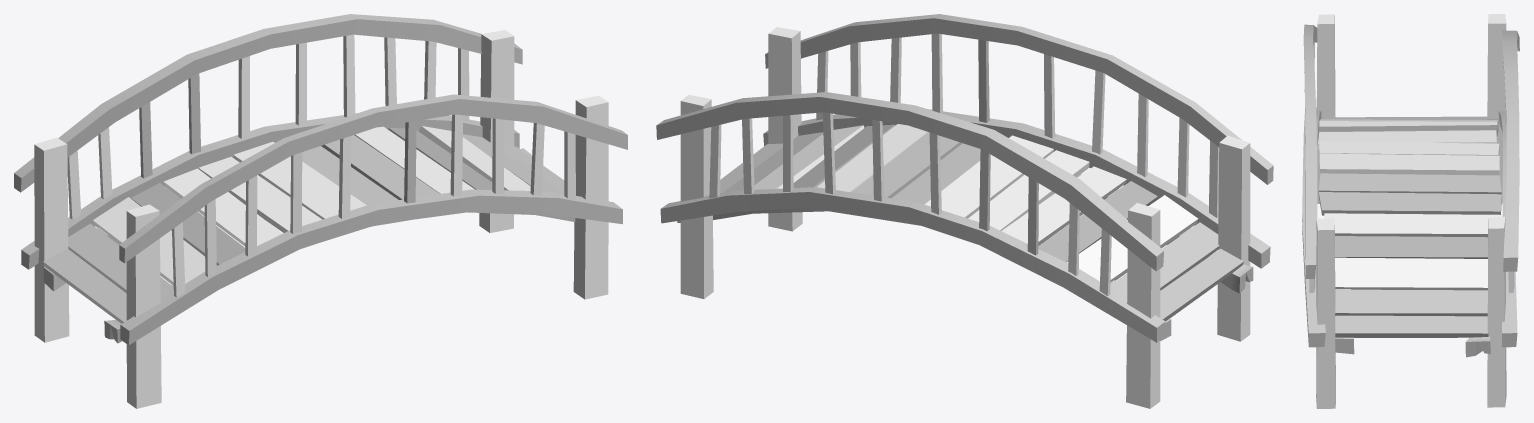
File: PT_Wooden_Bridge_02.fbx
The picture shows the model from 3 angles, left to right: view 1: azimuth 30°, elevation 25°; view 2: azimuth 150°, elevation 25°; view 3: azimuth 270°, elevation 25°; orthographic projection. The views are drawn at different scales.
Visible parts, largest first — view 1: PT_Wooden_Bridge_02_LOD0; view 2: PT_Wooden_Bridge_02_LOD0; view 3: PT_Wooden_Bridge_02_LOD0.
Part boxes in pixels (bbox=[...]): PT_Wooden_Bridge_02_LOD0: bbox=[14, 14, 627, 408]; PT_Wooden_Bridge_02_LOD0: bbox=[656, 14, 1273, 408]; PT_Wooden_Bridge_02_LOD0: bbox=[1302, 14, 1519, 408].
Size of what is drawn, in the model's own units: 447 by 208 by 179.
